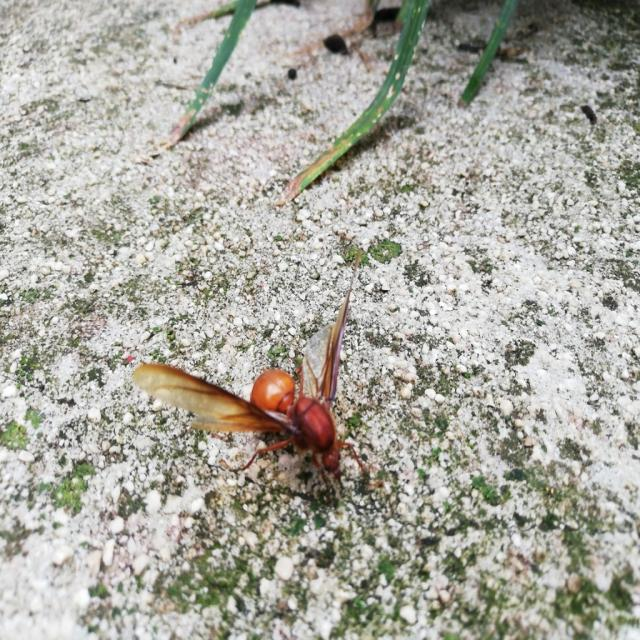Alive-Male-Alate: (133, 248, 377, 520)
